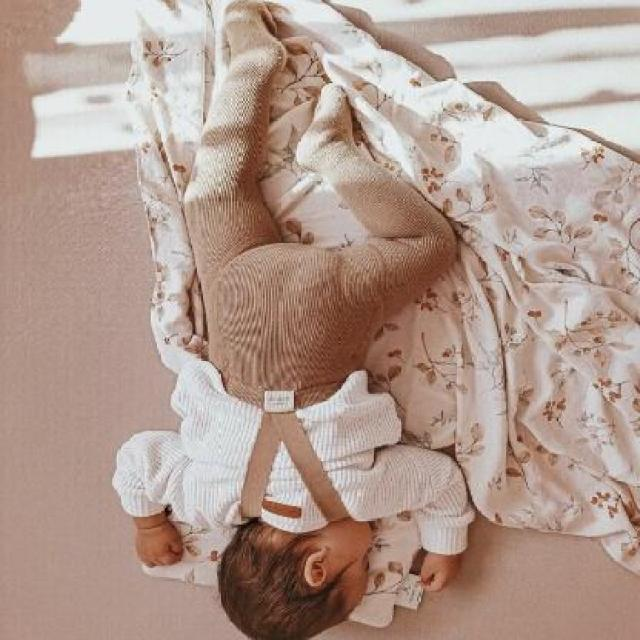baby: (109, 3, 474, 640)
